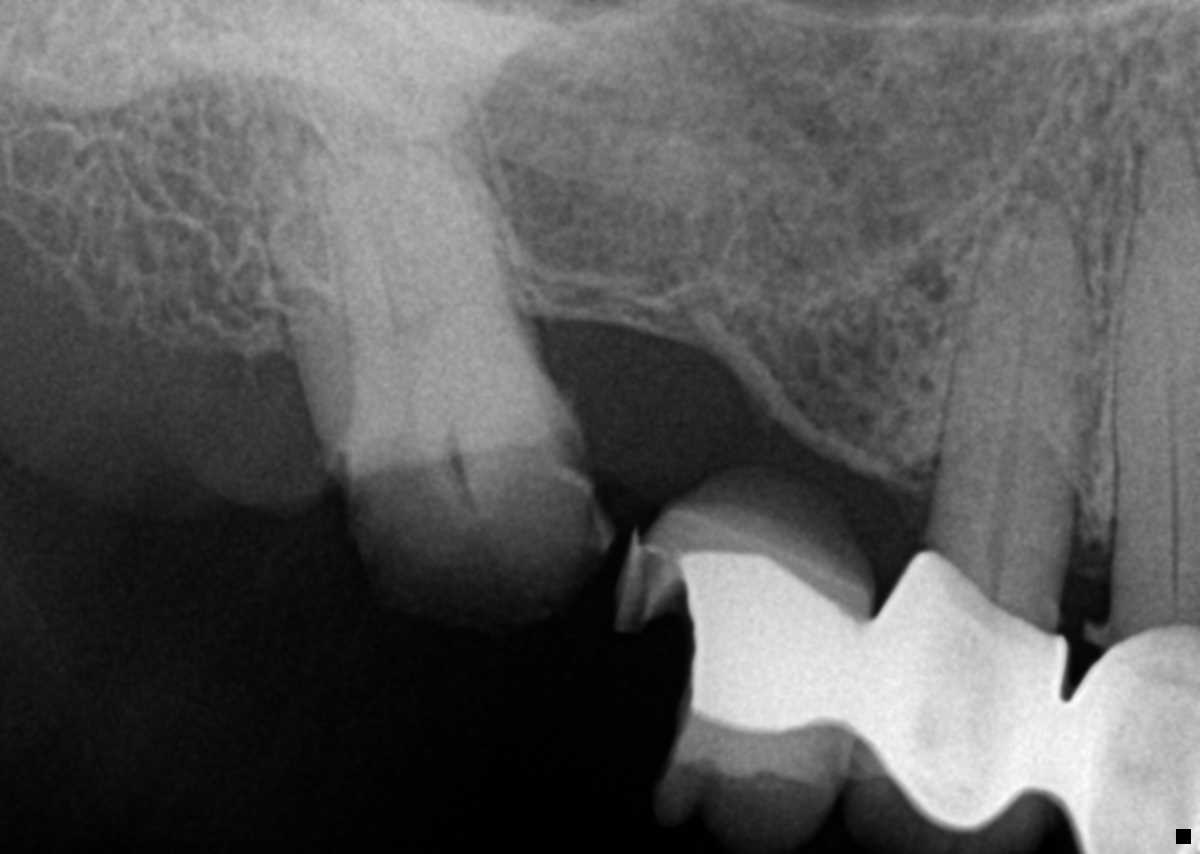Apical Lesion: (982, 162, 1101, 301)
Distal Root: (245, 108, 385, 347)
Main Canal: (996, 310, 1030, 506), (1164, 297, 1184, 525)
Main Root: (936, 199, 1091, 527), (1111, 129, 1200, 542)
Mesial Root: (396, 67, 498, 246)
Palatal Root: (295, 0, 495, 304)
